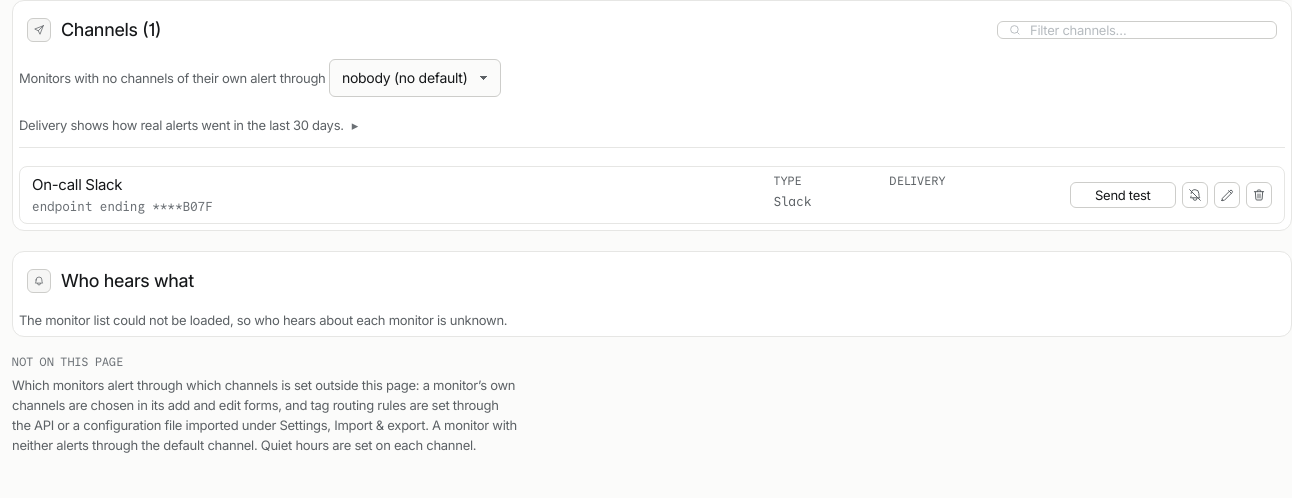
Scenario: enabling and disabling through the server › reports a refused toggle on the row rather than silently reverting
This screenshot has width=1292, height=498.
Click the button named "Disable " at (1195, 195), box [1182, 182, 1208, 208]
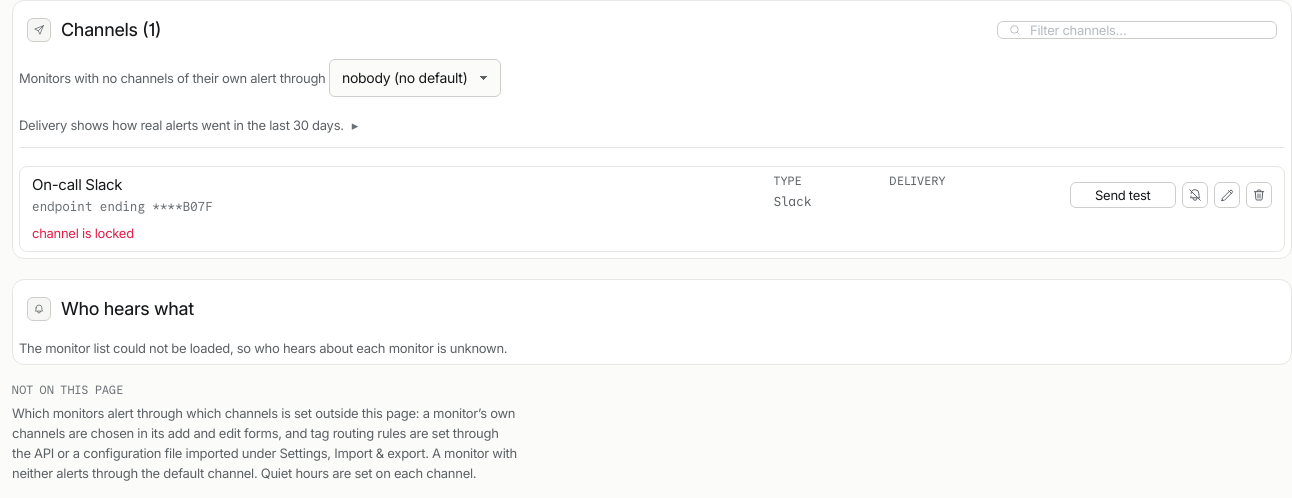
Result: the text "channel is locked" is shown at [32, 225, 134, 241]
